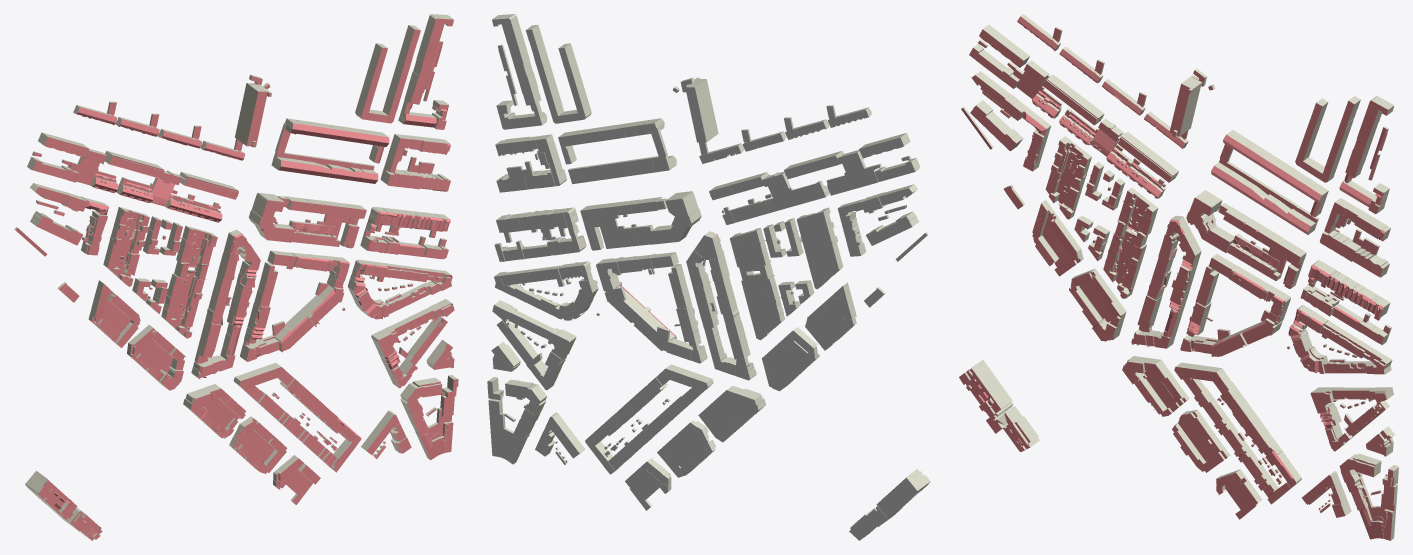
Rendered from gijsinglaan_lod22_reoriginated.gltf.
3 views of the same model, side by side, from view 1: azimuth 30°, elevation 25°; view 2: azimuth 150°, elevation 25°; view 3: azimuth 330°, elevation 25° (orthographic).
Parts seen in each view (by area): view 1: NL.IMBAG.Pand.0599100000752756-271, NL.IMBAG.Pand.0599100000612535-295, NL.IMBAG.Pand.0599100000702438-582, NL.IMBAG.Pand.0599100000388047-621, NL.IMBAG.Pand.0599100000765598-15, NL.IMBAG.Pand.0599100000603855-434, NL.IMBAG.Pand.0599100000752770-89, NL.IMBAG.Pand.0599100000210275-154, NL.IMBAG.Pand.0599100000701764-281, NL.IMBAG.Pand.0599100000760000-124, NL.IMBAG.Pand.0599100100020576-69, NL.IMBAG.Pand.0599100100020763-348 (+8 smaller); view 2: NL.IMBAG.Pand.0599100000752756-271, NL.IMBAG.Pand.0599100000612535-295, NL.IMBAG.Pand.0599100000388047-621, NL.IMBAG.Pand.0599100000702438-582, NL.IMBAG.Pand.0599100000765598-15, NL.IMBAG.Pand.0599100000752770-89, NL.IMBAG.Pand.0599100000603855-434, NL.IMBAG.Pand.0599100000701764-281, NL.IMBAG.Pand.0599100000210275-154, NL.IMBAG.Pand.0599100100020576-69, NL.IMBAG.Pand.0599100000760000-124, NL.IMBAG.Pand.0599100100020575-153 (+9 smaller); view 3: NL.IMBAG.Pand.0599100000752756-271, NL.IMBAG.Pand.0599100000765598-15, NL.IMBAG.Pand.0599100000388047-621, NL.IMBAG.Pand.0599100000765599-81, NL.IMBAG.Pand.0599100000702438-582, NL.IMBAG.Pand.0599100000612535-295, NL.IMBAG.Pand.0599100000210275-154, NL.IMBAG.Pand.0599100000603855-434, NL.IMBAG.Pand.0599100000752770-89, NL.IMBAG.Pand.0599100000760000-124, NL.IMBAG.Pand.0599100000701764-281, NL.IMBAG.Pand.0599100000752762-190 (+6 smaller).
Part boxes in pixels (x1,y1,x2,y2): NL.IMBAG.Pand.0599100000752756-271: (103,207,149,286); NL.IMBAG.Pand.0599100000612535-295: (272,282,344,351); NL.IMBAG.Pand.0599100000702438-582: (235,74,271,147); NL.IMBAG.Pand.0599100000388047-621: (248,192,294,242); NL.IMBAG.Pand.0599100000765598-15: (25,470,77,519); NL.IMBAG.Pand.0599100000603855-434: (416,421,453,460); NL.IMBAG.Pand.0599100000752770-89: (171,269,198,328); NL.IMBAG.Pand.0599100000210275-154: (30,211,82,245); NL.IMBAG.Pand.0599100000701764-281: (76,148,106,185); NL.IMBAG.Pand.0599100000760000-124: (150,170,181,206); NL.IMBAG.Pand.0599100100020576-69: (138,339,172,376); NL.IMBAG.Pand.0599100100020763-348: (233,429,274,461); NL.IMBAG.Pand.0599100000752756-271: (796,207,843,289); NL.IMBAG.Pand.0599100000612535-295: (604,283,676,351); NL.IMBAG.Pand.0599100000388047-621: (651,191,701,244); NL.IMBAG.Pand.0599100000702438-582: (680,77,718,142); NL.IMBAG.Pand.0599100000765598-15: (876,469,930,517); NL.IMBAG.Pand.0599100000752770-89: (747,273,774,333); NL.IMBAG.Pand.0599100000603855-434: (490,426,527,464); NL.IMBAG.Pand.0599100000701764-281: (839,150,870,189); NL.IMBAG.Pand.0599100000210275-154: (866,211,919,245); NL.IMBAG.Pand.0599100100020576-69: (769,341,807,377); NL.IMBAG.Pand.0599100000760000-124: (765,171,795,210); NL.IMBAG.Pand.0599100100020575-153: (813,295,844,345); NL.IMBAG.Pand.0599100000752756-271: (1045,136,1091,219); NL.IMBAG.Pand.0599100000765598-15: (959,359,1012,417); NL.IMBAG.Pand.0599100000388047-621: (1186,190,1234,252); NL.IMBAG.Pand.0599100000765599-81: (986,402,1039,451); NL.IMBAG.Pand.0599100000702438-582: (1169,68,1206,136); NL.IMBAG.Pand.0599100000612535-295: (1211,309,1282,356); NL.IMBAG.Pand.0599100000210275-154: (970,100,1023,151); NL.IMBAG.Pand.0599100000603855-434: (1359,505,1395,540); NL.IMBAG.Pand.0599100000752770-89: (1110,229,1136,286); NL.IMBAG.Pand.0599100000760000-124: (1089,118,1123,156); NL.IMBAG.Pand.0599100000701764-281: (1016,60,1048,99); NL.IMBAG.Pand.0599100000752762-190: (1124,196,1152,232).
Bounding box in the file's own units: 533 × 531 × 40.62.
